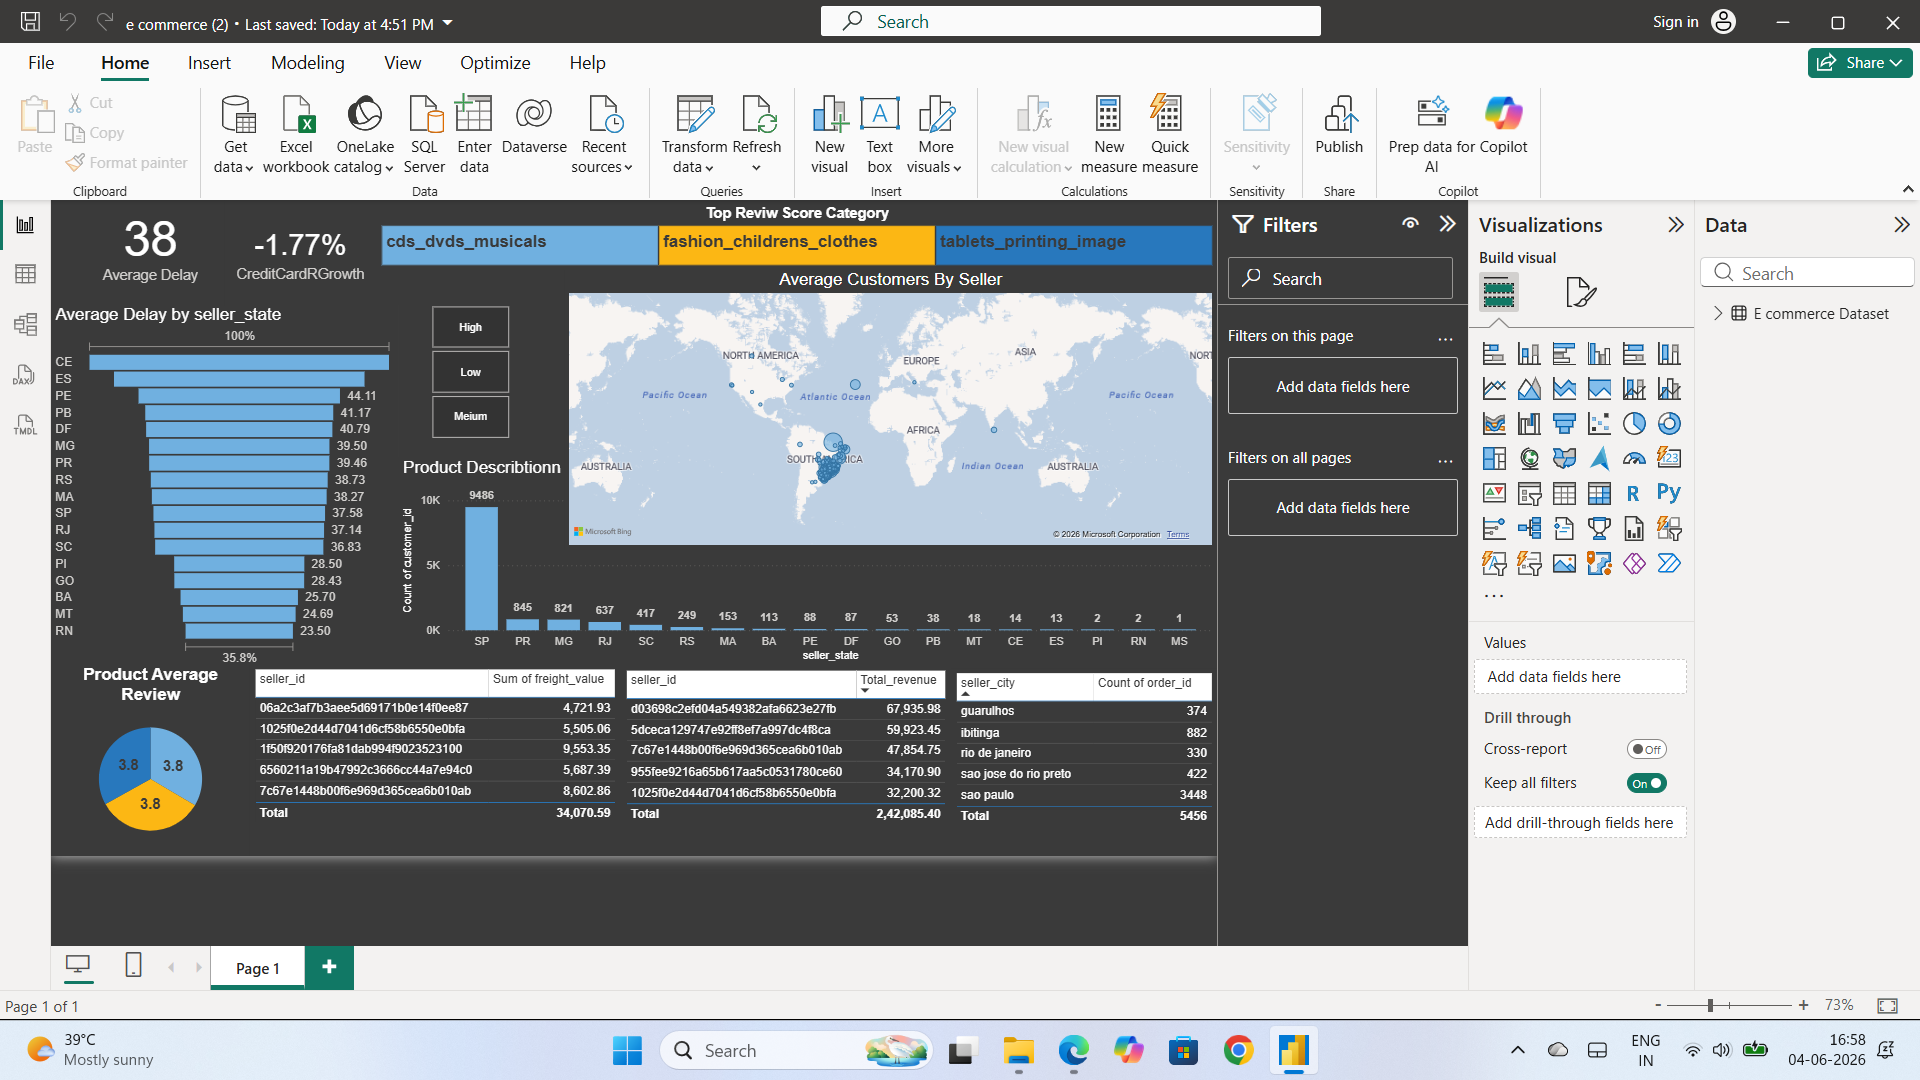

The dashboard page shown, as its layout file describes it:
{"tool":"powerbi","page":{"name":"Page 1","canvas":[1280,720],"ordinal":0},"visuals":[{"type":"card","fields":{"Values":["E commerce Dataset.Average Delay"]},"box":[27.5,0,163.8,96.3],"z":0},{"type":"funnel","fields":{"Category":["E commerce Dataset.seller_state"],"Y":["E commerce Dataset.Average Delay"]},"box":[0,115.6,381.2,400.5],"z":1000},{"type":"columnChart","title":"Product Describtionn","fields":{"Category":["E commerce Dataset.seller_state"],"Y":["CountNonNull(E commerce Dataset.customer_id)"]},"box":[381.3,282.2,898.7,228.5],"z":2000},{"type":"card","fields":{"Values":["E commerce Dataset.CreditCardRGrowth"]},"box":[191.3,0,166.5,115.6],"z":3000},{"type":"treemap","title":"Top Reviw Score Category","fields":{"Group":["E commerce Dataset.product_category_name_english"],"Values":["Sum(E commerce Dataset.review_score)"]},"box":[357.8,5.5,922.2,71.6],"z":4000},{"type":"pieChart","title":"Product Average Review","fields":{"Category":["E commerce Dataset.Product_desc_seg"],"Y":["Avg(E commerce Dataset.review_score)"]},"box":[0,510.6,218.8,209.2],"z":5000},{"type":"tableEx","fields":{"Values":["E commerce Dataset.seller_id","E commerce Dataset.Total_revenue"]},"box":[626.2,512,362,207.8],"z":6000},{"type":"tableEx","fields":{"Values":["E commerce Dataset.seller_city","E commerce Dataset.order_id"]},"box":[988.2,514.8,291.8,205.1],"z":7000},{"type":"tableEx","fields":{"Values":["E commerce Dataset.seller_id","Sum(E commerce Dataset.freight_value)"]},"box":[218.8,510.6,407.4,209.2],"z":8000},{"type":"map","title":"Average Customers By Seller","fields":{"Category":["E commerce Dataset.seller_city"],"Size":["E commerce Dataset.Avg_Customers_Per_Seller"]},"box":[564.3,77.1,715.7,306.9],"z":9000},{"type":"slicer","fields":{"Values":["E commerce Dataset.Product_desc_seg"]},"box":[393.1,109.2,134.4,157.9],"z":10000}]}

Visuals, with their boxes on the page's 1280x720 design canvas (x1, y1, x2, y2). These are canvas units, not pixel positions in the 1920x1080 screenshot, which may show the page scaled, cropped or inside an application window:
card - E commerce Dataset.Average Delay: <region>28, 0, 191, 96</region>
funnel - E commerce Dataset.seller_state x E commerce Dataset.Average Delay: <region>0, 116, 381, 516</region>
"Product Describtionn" columnChart: <region>381, 282, 1280, 511</region>
card - E commerce Dataset.CreditCardRGrowth: <region>191, 0, 358, 116</region>
"Top Reviw Score Category" treemap: <region>358, 6, 1280, 77</region>
"Product Average Review" pieChart: <region>0, 511, 219, 720</region>
tableEx - E commerce Dataset.seller_id x E commerce Dataset.Total_revenue: <region>626, 512, 988, 720</region>
tableEx - E commerce Dataset.seller_city x E commerce Dataset.order_id: <region>988, 515, 1280, 720</region>
tableEx - E commerce Dataset.seller_id x Sum(E commerce Dataset.freight_value): <region>219, 511, 626, 720</region>
"Average Customers By Seller" map: <region>564, 77, 1280, 384</region>
slicer - E commerce Dataset.Product_desc_seg: <region>393, 109, 528, 267</region>
